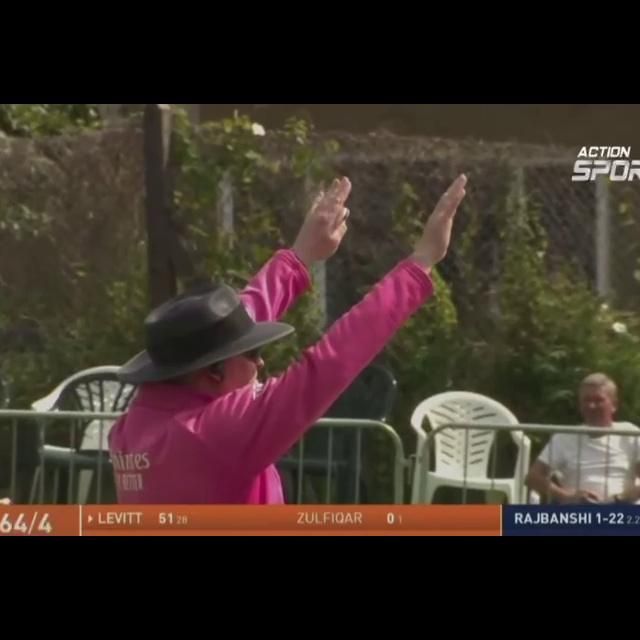umpire: (56, 149, 474, 504)
